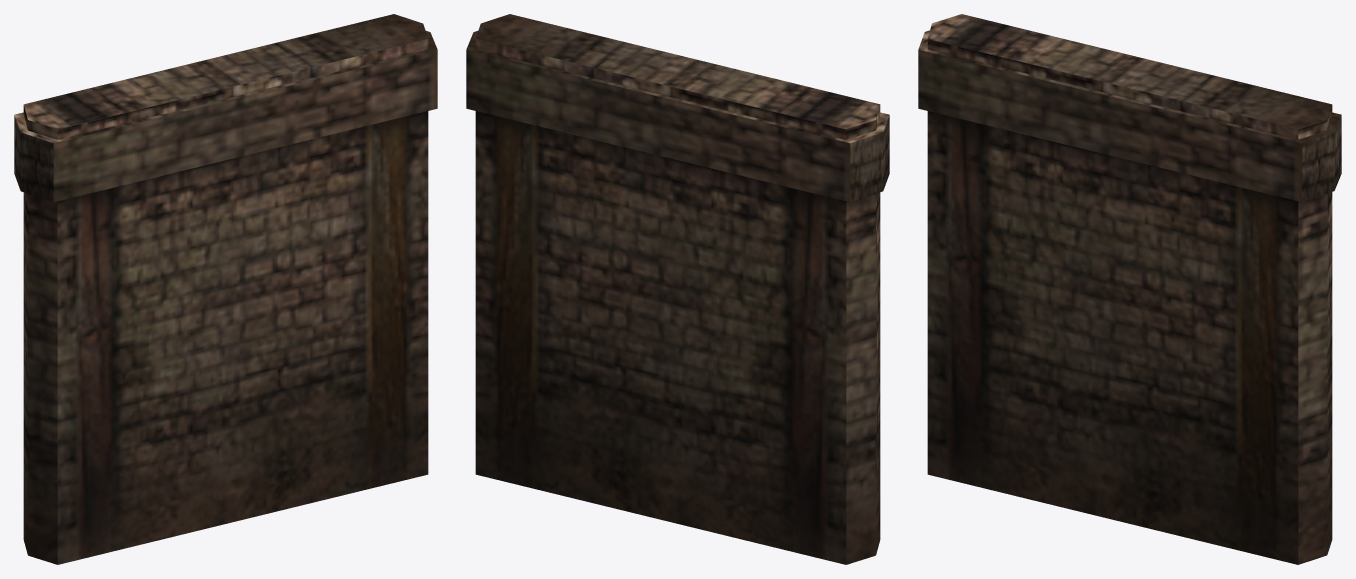
3 renders of one model, left to right at view 1: azimuth 30°, elevation 25°; view 2: azimuth 150°, elevation 25°; view 3: azimuth 330°, elevation 25°, orthographic.
Visible parts, largest first — view 1: wj01; view 2: wj01; view 3: wj01.
Boxes of the visible parts, x1,y1,x2,y2 form: wj01: (14, 14, 437, 564); wj01: (466, 14, 889, 564); wj01: (918, 14, 1341, 564).
Bounding box in the file's own units: 772 × 784 × 128.
